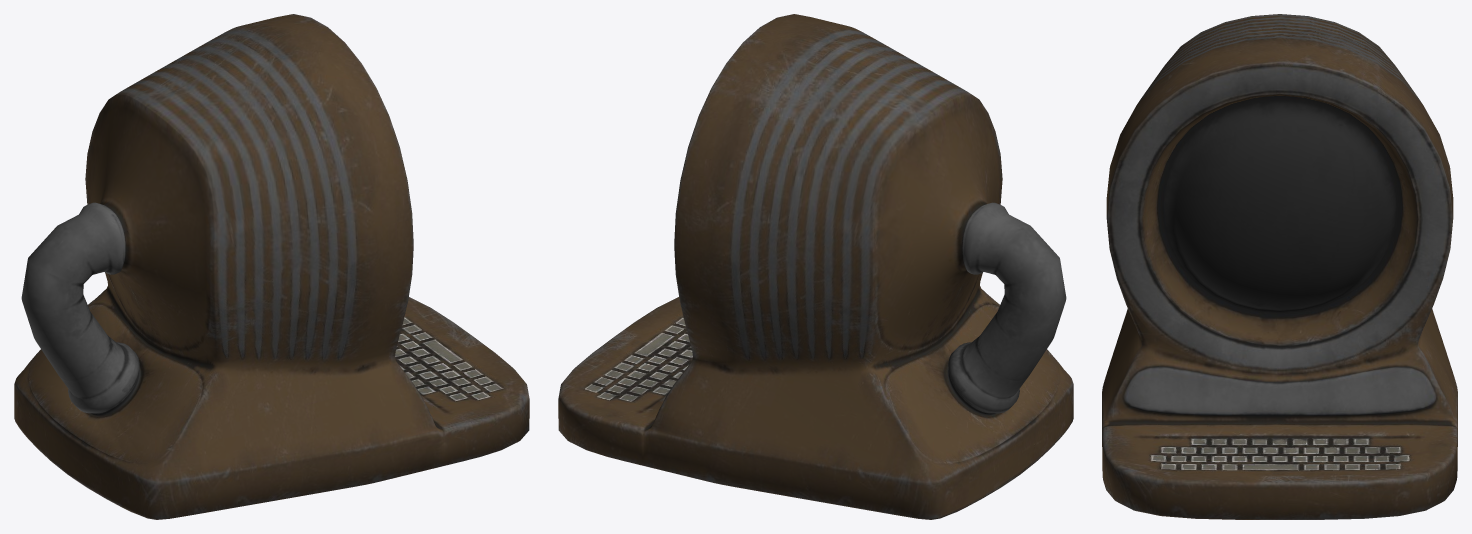
Rendered from Computer.glb.
3 renders of one model, left to right at view 1: azimuth 30°, elevation 25°; view 2: azimuth 150°, elevation 25°; view 3: azimuth 270°, elevation 25°, orthographic.
Parts seen in each view (by area): view 1: Computer_low.002; view 2: Computer_low.002; view 3: Computer_low.002.
Boxes of the visible parts, x1=… form: Computer_low.002: x1=14, y1=14, x2=529, y2=519; Computer_low.002: x1=558, y1=14, x2=1073, y2=519; Computer_low.002: x1=1102, y1=14, x2=1457, y2=519.
Size of the model in its own units: 1.15 by 0.9422 by 0.7832.
1 material, 1 textured.
